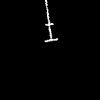double_crochet: (45, 0, 57, 41)
